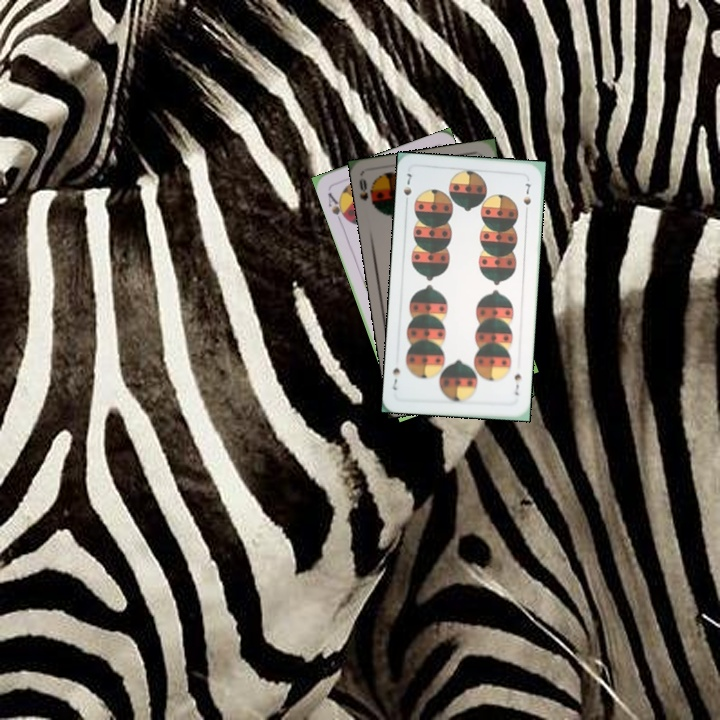S7: (400, 170, 414, 208), (510, 370, 524, 398)
SA: (324, 188, 350, 226)
SO: (355, 174, 378, 211)
